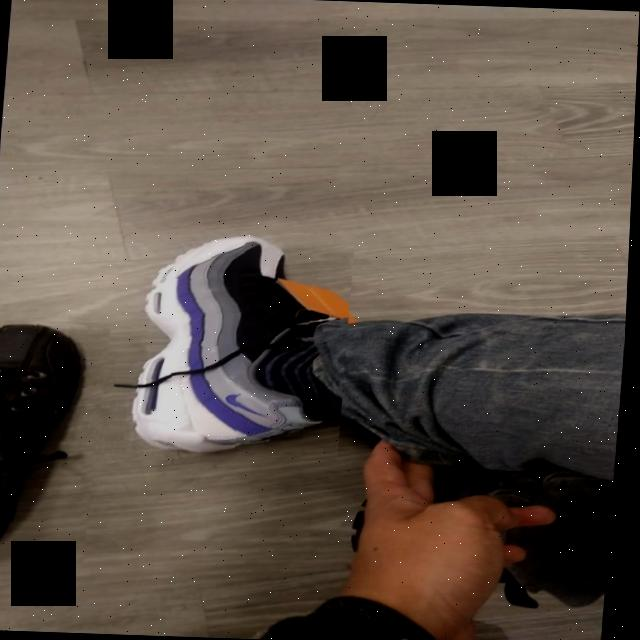shoe: (113, 226, 357, 466), (0, 319, 114, 574)
